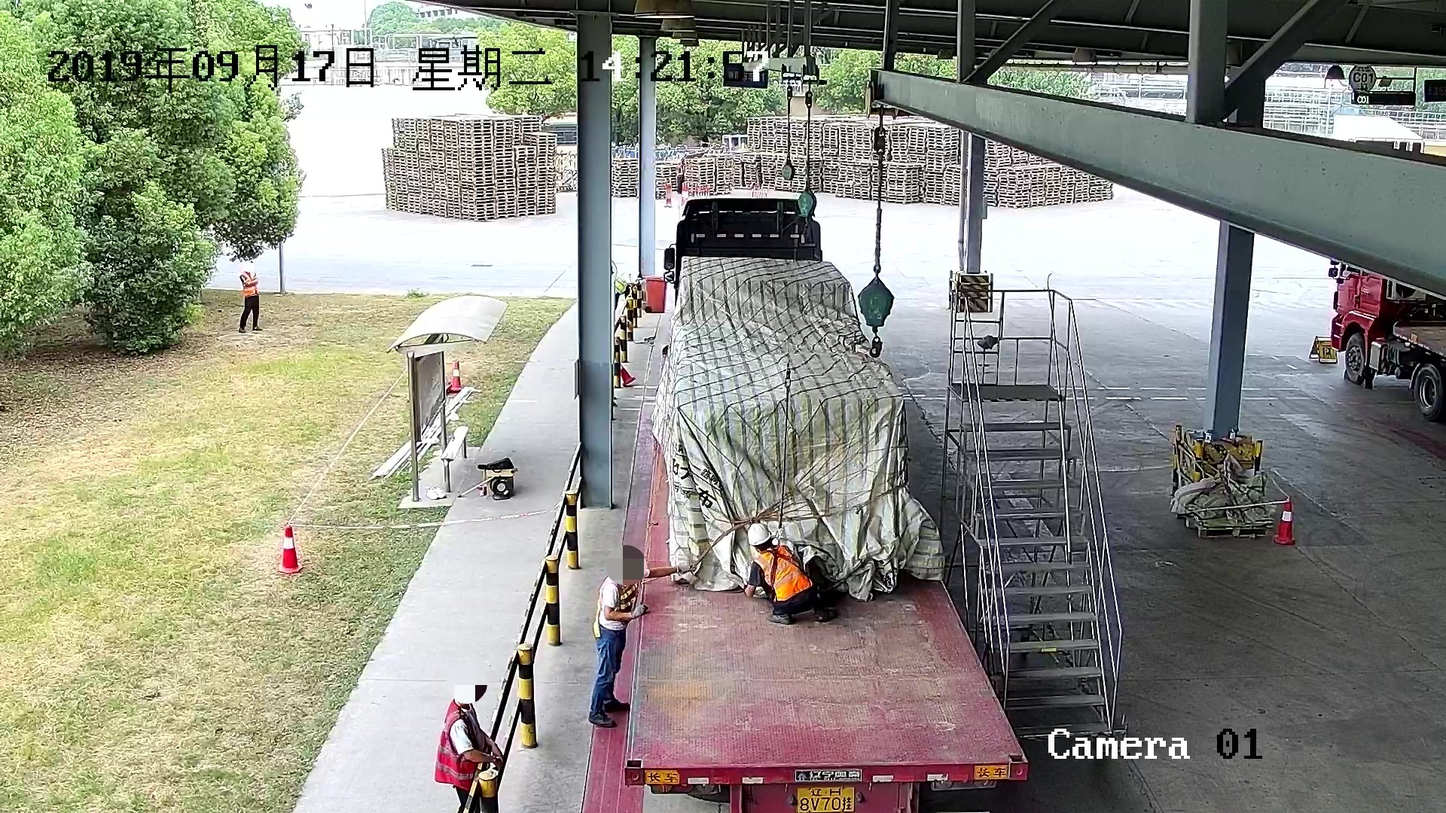hat: (746, 521, 773, 553)
head: (613, 550, 640, 577), (621, 263, 636, 273), (243, 260, 252, 272)
person: (583, 550, 695, 726), (733, 520, 836, 625), (435, 665, 508, 813), (239, 261, 264, 333), (612, 260, 638, 312)
